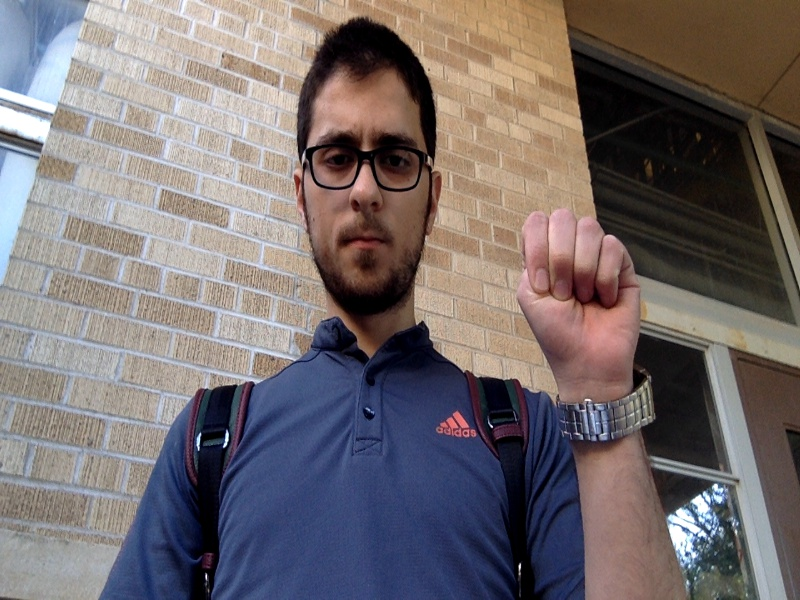0-hand: (518, 211, 638, 380)
